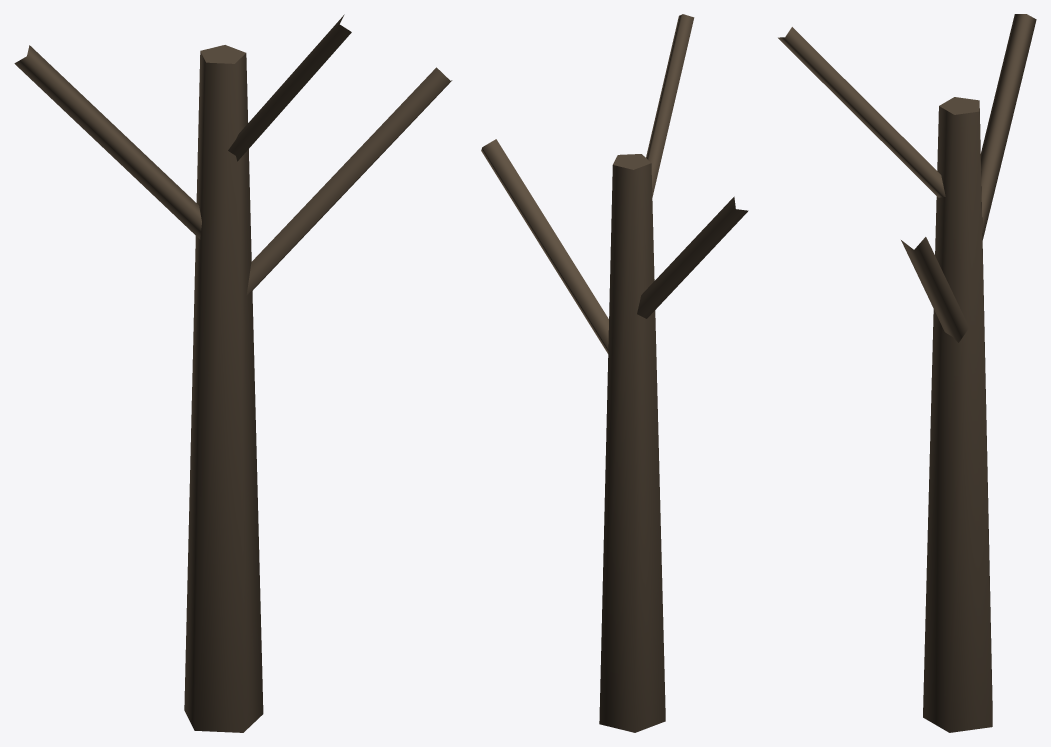
Rendered from arvore_seca.glb.
3 views of the same model, side by side, from view 1: azimuth 30°, elevation 25°; view 2: azimuth 150°, elevation 25°; view 3: azimuth 270°, elevation 25° (orthographic). The views are drawn at different scales.
Visible parts, largest first — view 1: arvore_seca_liso; view 2: arvore_seca_liso; view 3: arvore_seca_liso.
Part boxes in pixels (x1,y1,x2,y2): arvore_seca_liso: (14,14,452,732); arvore_seca_liso: (481,14,748,732); arvore_seca_liso: (778,14,1036,732).
Bounding box in the file's own units: 2.51 × 4.84 × 1.61.
